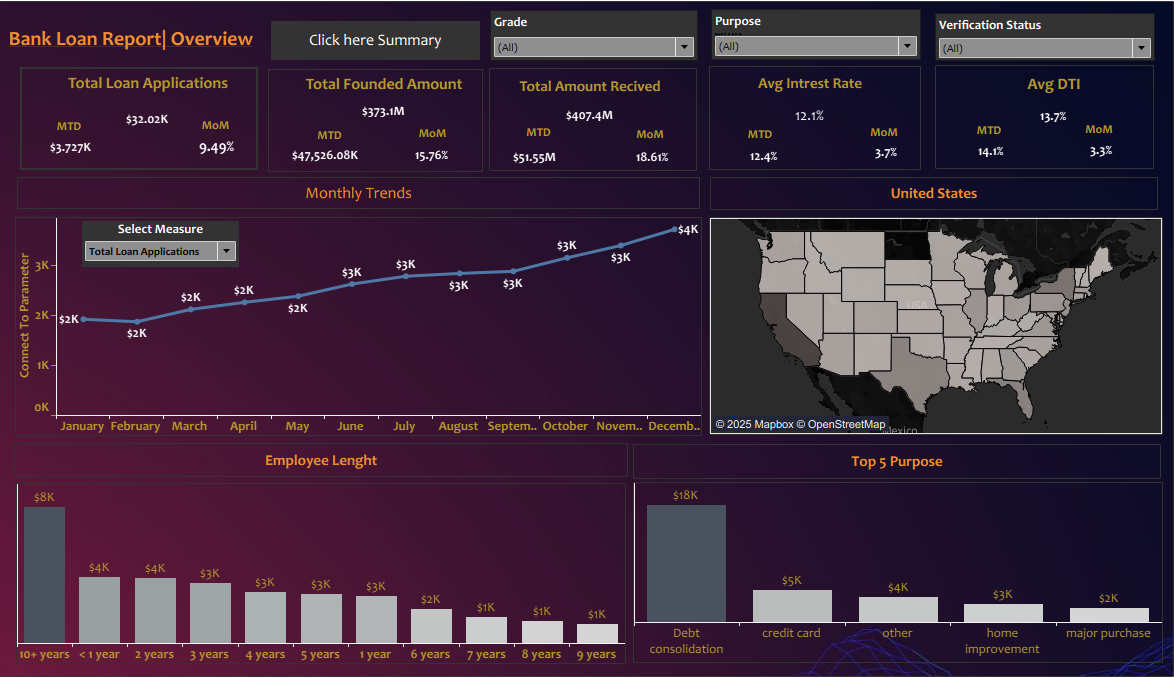

The dashboard page shown, as its layout file describes it:
{"tool":"tableau","page":{"name":"Overview","canvas":[1200,700],"ordinal":0},"visuals":[{"type":"image","param":"Image/5630939.jpg","box":[8,8,1184,684]},{"type":"filter","title":"Avg DTI","param":"[federated.10w6j6r1yvns6b1fq55t21q53dsb].[none:purpose:nk]","box":[725,20,210,51]},{"type":"filter","title":"Avg DTI","param":"[federated.10w6j6r1yvns6b1fq55t21q53dsb].[none:grade:nk]","box":[504,21,208,51]},{"type":"filter","title":"Avg DTI","param":"[federated.10w6j6r1yvns6b1fq55t21q53dsb].[none:verification_status:nk]","box":[949,24,220,48]},{"type":"text","box":[20,27,249,44]},{"type":"dashboard-object","box":[285,32,209,39]},{"type":"blank","box":[949,76,219,104]},{"type":"blank","box":[723,77,212,104]},{"type":"blank","box":[34,78,238,103]},{"type":"blank","box":[503,79,208,103]},{"type":"worksheet","title":"Total Loan Application","mark":"Automatic","box":[69,80,186,65]},{"type":"blank","box":[282,80,215,103]},{"type":"worksheet","title":"Total Founded Amount","mark":"Automatic","box":[315,81,166,47]},{"type":"worksheet","title":"Avg Intrest Rate","mark":"Automatic","box":[734,81,180,57]},{"type":"worksheet","title":"Avg DTI","mark":"Automatic","box":[982,81,172,57]},{"type":"worksheet","title":"Total Amount Recived","mark":"Automatic","box":[508,84,192,51]},{"type":"text","box":[967,122,72,39]},{"type":"text","box":[625,123,78,44]},{"type":"text","box":[1073,123,80,34]},{"type":"text","box":[45,124,76,26]},{"type":"text","box":[197,124,65,25]},{"type":"text","box":[854,125,88,36]},{"type":"text","box":[417,127,59,34]},{"type":"text","box":[513,127,79,32]},{"type":"text","box":[307,132,73,28]},{"type":"text","box":[739,136,70,19]},{"type":"worksheet","title":"MTD Loan Applications ","mark":"Automatic","box":[50,141,70,35]},{"type":"worksheet","title":"MoM Loan application","mark":"Automatic","box":[198,145,67,26]},{"type":"worksheet","title":"MoM Avg DTI","mark":"Automatic","box":[1087,146,58,31]},{"type":"worksheet","title":"MoM Avg Intrest Rate","mark":"Automatic","box":[864,147,73,32]},{"type":"worksheet","title":"MTD Total Founded Amount","mark":"Automatic","box":[292,148,96,36]},{"type":"worksheet","title":"MTD Avg DTI ","mark":"Automatic","box":[970,148,70,29]},{"type":"worksheet","title":"MoM Total Founded Amount","mark":"Automatic","box":[408,150,76,33]},{"type":"worksheet","title":"MTD Total Amount Received","mark":"Automatic","box":[509,150,80,37]},{"type":"worksheet","title":"MTD Avg Intrest Rate","mark":"Automatic","box":[749,150,59,35]},{"type":"worksheet","title":"MoM Total Amount Received","mark":"Automatic","box":[638,152,58,32]},{"type":"text","box":[31,188,683,32]},{"type":"text","box":[724,188,448,33]},{"type":"worksheet","title":"montly Trnds","mark":"Line","rows":["Calculation_1922755631002357760"],"cols":["issue_date"],"box":[29,228,687,219]},{"type":"worksheet","title":"Reciveid By country","mark":"Multipolygon","box":[723,228,454,218]},{"type":"parameter","param":"[Parameters].[Parameter 1]","box":[96,232,157,46]},{"type":"text","box":[28,454,614,34]},{"type":"text","box":[647,455,528,35]},{"type":"worksheet","title":"Purpose","mark":"Automatic","rows":["Calculation_1922755631002357760"],"cols":["purpose"],"box":[647,493,530,181]},{"type":"worksheet","title":"Emp Length","mark":"Automatic","rows":["Calculation_1922755631002357760"],"cols":["emp_length"],"box":[30,494,610,181]}]}

Visuals, with their boxes in screenshot pixels (x1, y1, x2, y2), scaled from the page's 1200x700 canvas onto the 1174x678 screenshot:
image: crop(8, 8, 1166, 670)
"Avg DTI" filter: crop(709, 19, 915, 69)
"Avg DTI" filter: crop(493, 20, 697, 70)
"Avg DTI" filter: crop(928, 23, 1144, 70)
text: crop(20, 26, 263, 69)
dashboard-object: crop(279, 31, 483, 69)
blank: crop(928, 74, 1143, 174)
blank: crop(707, 75, 915, 175)
blank: crop(33, 76, 266, 175)
blank: crop(492, 77, 696, 176)
"Total Loan Application" worksheet: crop(68, 77, 249, 140)
blank: crop(276, 77, 486, 177)
"Total Founded Amount" worksheet: crop(308, 78, 471, 124)
"Avg Intrest Rate" worksheet: crop(718, 78, 894, 134)
"Avg DTI" worksheet: crop(961, 78, 1129, 134)
"Total Amount Recived" worksheet: crop(497, 81, 685, 131)
text: crop(946, 118, 1016, 156)
text: crop(611, 119, 688, 162)
text: crop(1050, 119, 1128, 152)
text: crop(44, 120, 118, 145)
text: crop(193, 120, 256, 144)
text: crop(835, 121, 922, 156)
text: crop(408, 123, 466, 156)
text: crop(502, 123, 579, 154)
text: crop(300, 128, 372, 155)
text: crop(723, 132, 791, 150)
"MTD Loan Applications " worksheet: crop(49, 137, 117, 170)
"MoM Loan application" worksheet: crop(194, 140, 259, 166)
"MoM Avg DTI" worksheet: crop(1063, 141, 1120, 171)
"MoM Avg Intrest Rate" worksheet: crop(845, 142, 917, 173)
"MTD Total Founded Amount" worksheet: crop(286, 143, 380, 178)
"MTD Avg DTI " worksheet: crop(949, 143, 1017, 171)
"MoM Total Founded Amount" worksheet: crop(399, 145, 474, 177)
"MTD Total Amount Received" worksheet: crop(498, 145, 576, 181)
"MTD Avg Intrest Rate" worksheet: crop(733, 145, 790, 179)
"MoM Total Amount Received" worksheet: crop(624, 147, 681, 178)
text: crop(30, 182, 699, 213)
text: crop(708, 182, 1147, 214)
"montly Trnds" worksheet (Line marks): crop(28, 221, 700, 433)
"Reciveid By country" worksheet (Multipolygon marks): crop(707, 221, 1151, 432)
parameter: crop(94, 225, 248, 269)
text: crop(27, 440, 628, 473)
text: crop(633, 441, 1150, 475)
"Purpose" worksheet: crop(633, 478, 1151, 653)
"Emp Length" worksheet: crop(29, 478, 626, 654)
